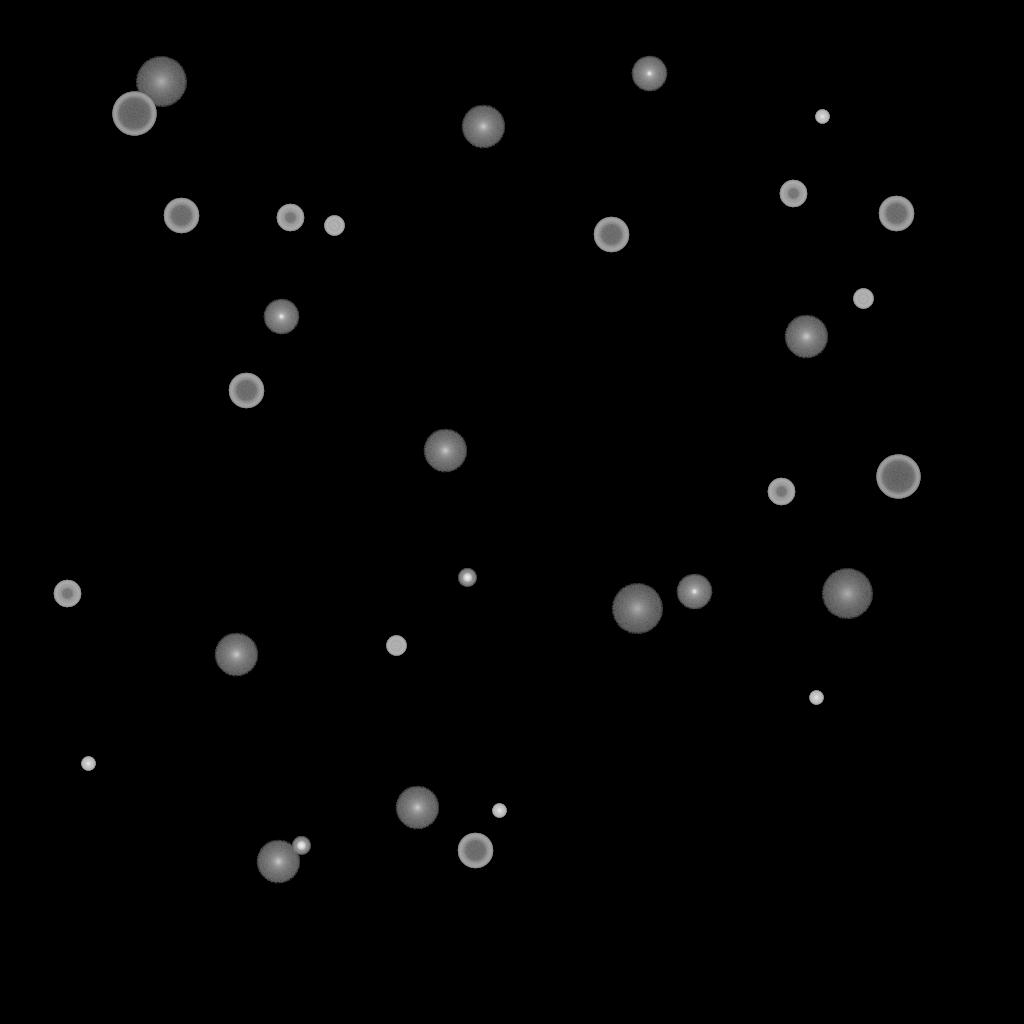depth:-20: (292, 837, 310, 855), (458, 569, 476, 587)
depth:-30: (492, 804, 506, 818), (81, 757, 95, 771), (815, 110, 829, 124), (809, 691, 823, 705)
depth:-40: (853, 289, 873, 309), (386, 636, 406, 656), (324, 216, 344, 236)
depth:-50: (767, 478, 795, 506), (276, 204, 304, 232), (53, 580, 81, 608), (779, 180, 807, 208)
depth:-60: (878, 196, 914, 232), (593, 217, 629, 253), (163, 198, 199, 234), (228, 373, 264, 409), (457, 833, 493, 869)
depth:-70: (876, 455, 920, 499), (112, 92, 156, 136)
depth:0: (263, 299, 299, 335), (676, 574, 712, 610), (631, 56, 667, 92)
depth:10: (461, 105, 505, 149), (214, 633, 258, 677), (423, 429, 467, 473), (256, 840, 300, 884), (784, 315, 828, 359), (395, 786, 439, 830)
depth:20: (611, 584, 663, 634), (821, 569, 873, 619), (135, 57, 187, 107)
